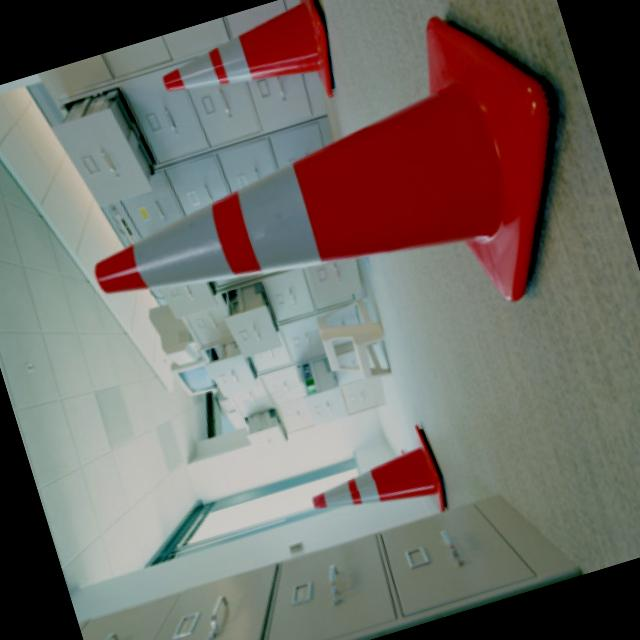cone: (7, 0, 628, 484)
